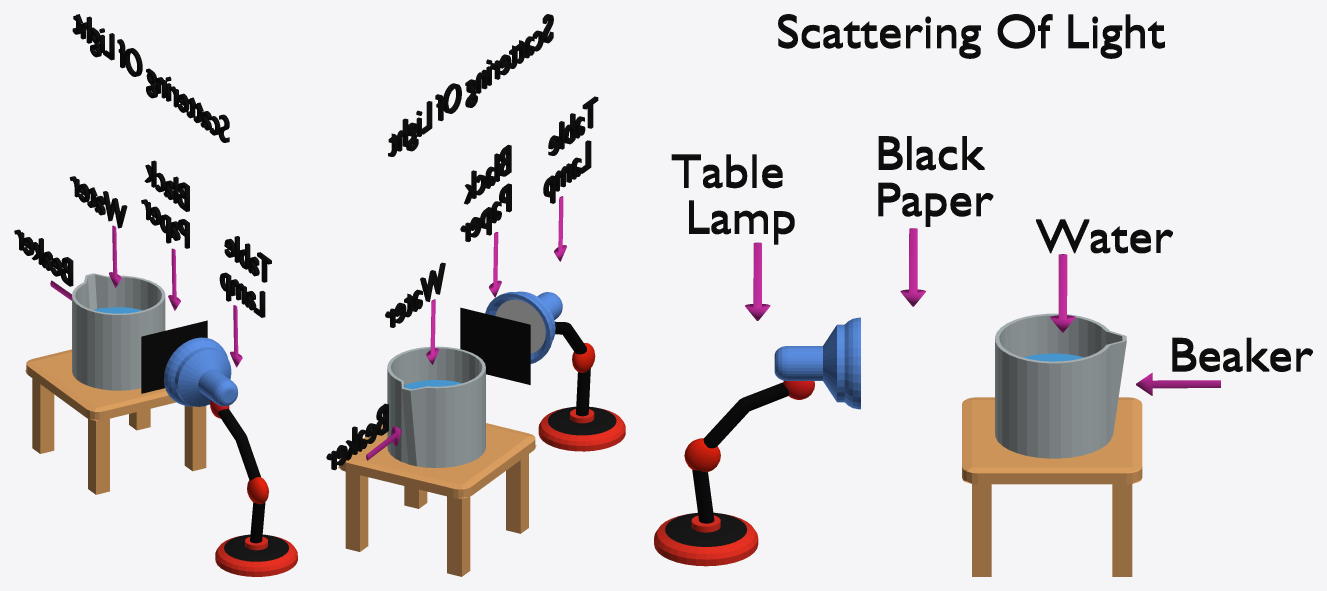
File: scattering of light .gltf
The picture shows the model from 3 angles, left to right: view 1: azimuth 30°, elevation 25°; view 2: azimuth 150°, elevation 25°; view 3: azimuth 270°, elevation 25°; orthographic projection. The views are drawn at different scales.
Parts seen in each view (by area): view 1: Cube, Cylinder.004, Cylinder.003, Text.004, Cylinder, Plane, Text.002, Text.003, Text.001, Text, Cylinder.002, Cylinder.001 (+1 smaller); view 2: Cube, Cylinder.004, Plane, Text.004, Cylinder, Cylinder.003, Text.002, Text.003, Text.001, Text, Cylinder.001, Cylinder.002 (+1 smaller); view 3: Cylinder.004, Cube, Text.004, Cylinder.003, Cylinder, Text.002, Text.003, Text.001, Text, Cylinder.002, Sphere, Cylinder.005 (+3 smaller).
Boxes of the visible parts, box(x1,y1,x2,y2) form: Cube: box(25, 349, 206, 494); Cylinder.004: box(72, 273, 165, 390); Cylinder.003: box(163, 337, 237, 406); Text.004: box(72, 14, 229, 142); Cylinder: box(215, 534, 297, 576); Plane: box(141, 320, 207, 393); Text.002: box(141, 160, 189, 248); Text.003: box(219, 236, 271, 317); Text.001: box(14, 229, 73, 286); Text: box(69, 176, 127, 228); Cylinder.002: box(218, 408, 260, 480); Cylinder.001: box(250, 502, 265, 543); Cube: box(338, 423, 536, 576); Cylinder.004: box(387, 346, 485, 467); Plane: box(460, 307, 530, 384); Text.004: box(388, 14, 553, 156); Cylinder: box(538, 406, 625, 451); Cylinder.003: box(485, 291, 562, 363); Text.002: box(460, 144, 511, 241); Text.003: box(543, 96, 598, 203); Text.001: box(326, 403, 388, 470); Text: box(385, 262, 445, 327); Cylinder.001: box(576, 368, 590, 416); Cylinder.002: box(555, 321, 586, 354); Cylinder.004: box(995, 313, 1126, 458); Cube: box(962, 397, 1142, 576); Text.004: box(778, 14, 1164, 58); Cylinder.003: box(774, 317, 860, 409); Cylinder: box(654, 512, 758, 566); Text.002: box(878, 136, 993, 226); Text.003: box(671, 154, 794, 244); Text.001: box(1172, 337, 1312, 371); Text: box(1036, 219, 1172, 253); Cylinder.002: box(703, 382, 788, 448); Sphere: box(684, 438, 720, 472); Cylinder.005: box(1050, 254, 1075, 332).
Size of the model in its own units: 0.6708 by 2.17 by 2.45.
